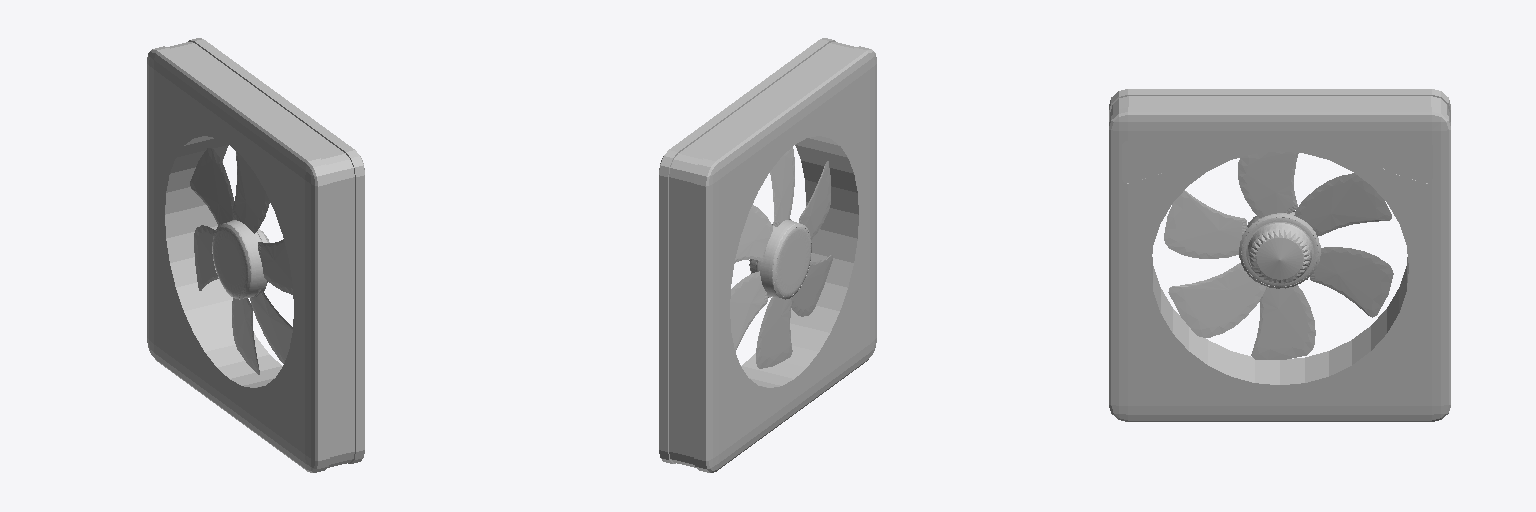
File: fan.obj
3 views of the same model, side by side, from view 1: azimuth 30°, elevation 25°; view 2: azimuth 150°, elevation 25°; view 3: azimuth 270°, elevation 25° (orthographic).
Visible parts, largest first — view 1: Cube_Cube.001, ventilputor_Cylinder_Cylinder.001; view 2: Cube_Cube.001, ventilputor_Cylinder_Cylinder.001; view 3: Cube_Cube.001, ventilputor_Cylinder_Cylinder.001.
Boxes of the visible parts, <box> form: Cube_Cube.001: <box>147,38,364,472</box>; ventilputor_Cylinder_Cylinder.001: <box>190,148,292,374</box>; Cube_Cube.001: <box>659,38,876,472</box>; ventilputor_Cylinder_Cylinder.001: <box>730,147,832,368</box>; Cube_Cube.001: <box>1109,89,1450,421</box>; ventilputor_Cylinder_Cylinder.001: <box>1164,151,1393,359</box>.
Size of the model in its own units: 1.06 by 5.95 by 5.93.